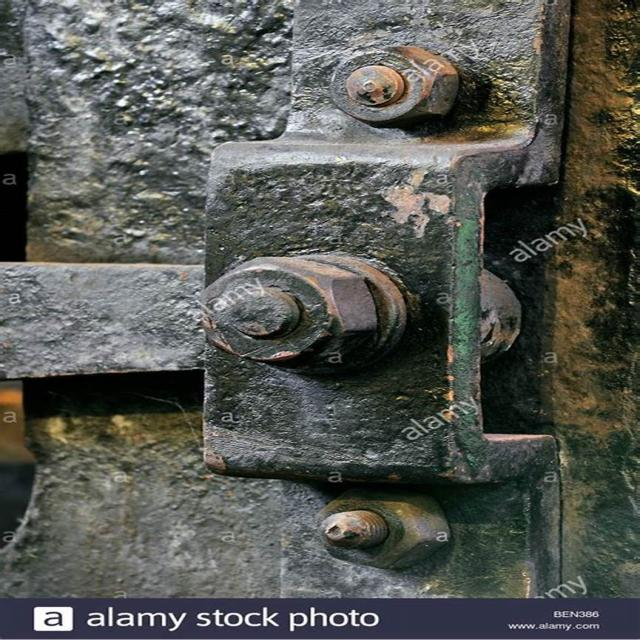bolt nut: (198, 258, 378, 374), (308, 483, 458, 573), (329, 47, 460, 130)
